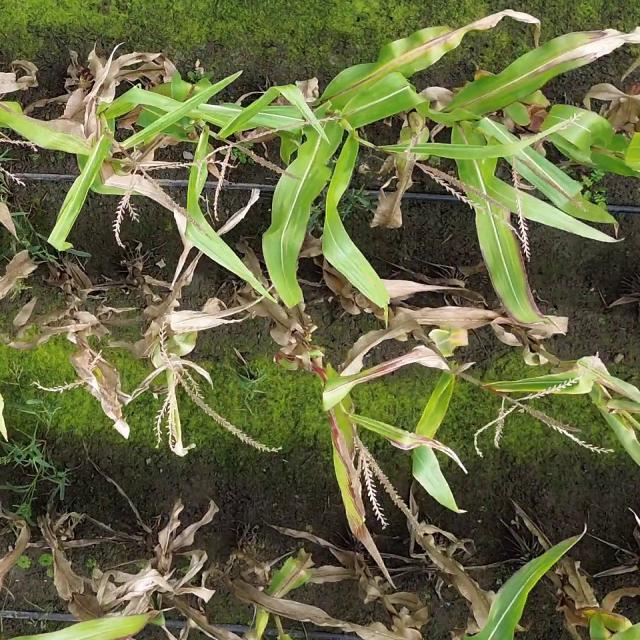northern-leaf-blight: (487, 37, 623, 87), (366, 29, 474, 84), (281, 542, 321, 615)
